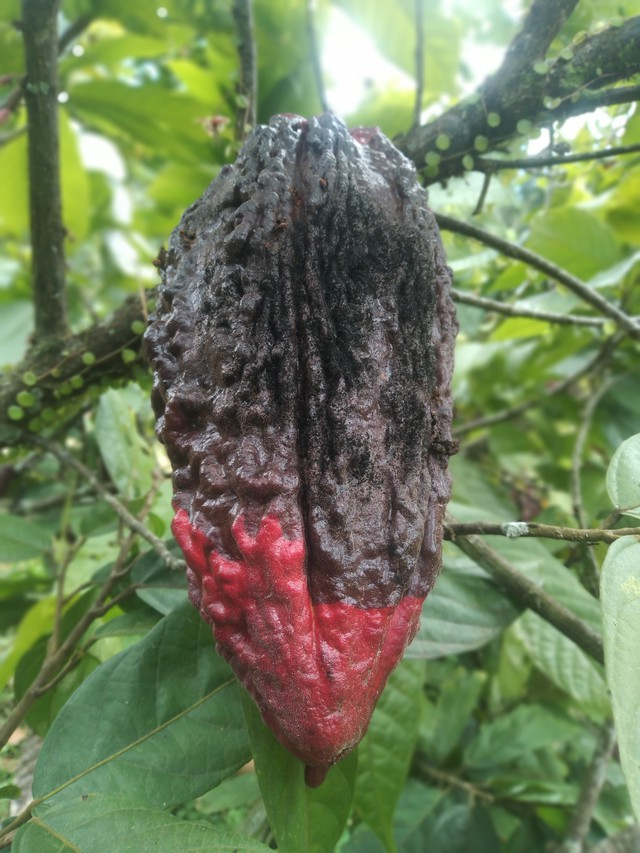phytophthora palmivora: (131, 103, 466, 779)
